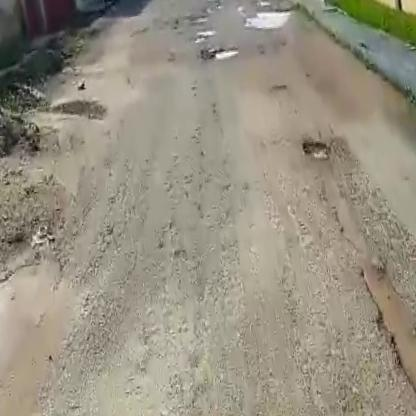pothole: (242, 4, 299, 34), (205, 43, 242, 63), (302, 138, 330, 161)
